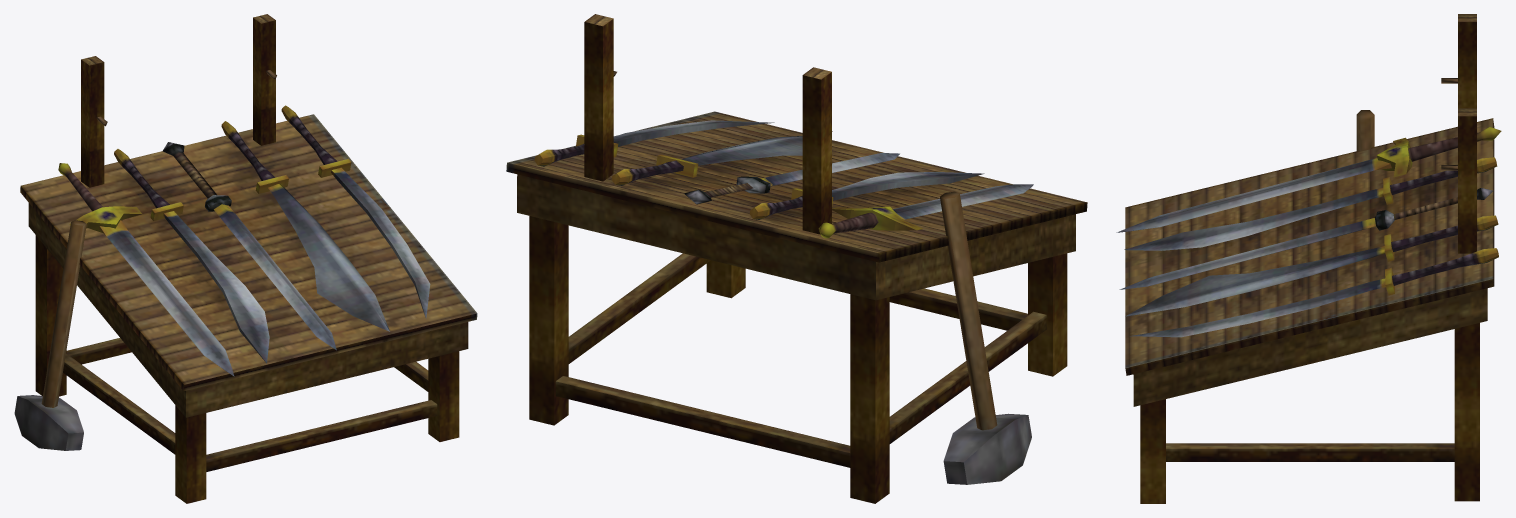
Rendered from b_general_obj_26.fbx.
3 renders of one model, left to right at view 1: azimuth 30°, elevation 25°; view 2: azimuth 150°, elevation 25°; view 3: azimuth 270°, elevation 25°, orthographic. The views are drawn at different scales.
Parts seen in each view (by area): view 1: Sphere02; view 2: Sphere02; view 3: Sphere02.
Boxes of the visible parts, box(x1,y1,x2,y2) form: Sphere02: box(14, 14, 477, 503); Sphere02: box(506, 14, 1087, 503); Sphere02: box(1116, 14, 1501, 503).
Bounding box in the file's own units: 1.6 × 1.47 × 1.4.
